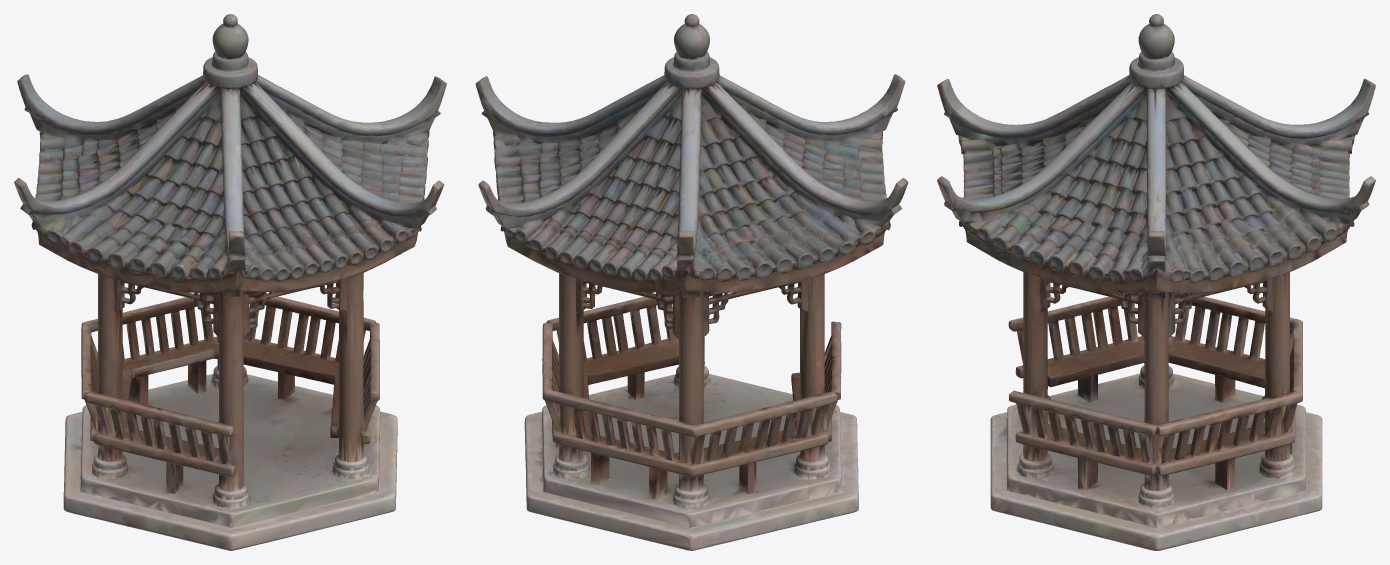
Rendered from LiuJiaoTing.glb.
3 renders of one model, left to right at view 1: azimuth 30°, elevation 25°; view 2: azimuth 150°, elevation 25°; view 3: azimuth 270°, elevation 25°, orthographic.
Parts seen in each view (by area): view 1: node_0; view 2: node_0; view 3: node_0.
Boxes of the visible parts, x1=… form: node_0: x1=14, y1=14, x2=446, y2=550; node_0: x1=475, y1=14, x2=908, y2=550; node_0: x1=937, y1=14, x2=1375, y2=550.
Size of the model in its own units: 0.9345 by 0.9584 by 0.8353.
Materials: 1 (1 with a texture image).
